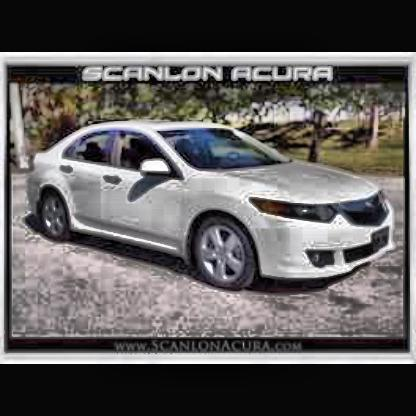Acura TSX Sedan 2012: (33, 124, 398, 294)
